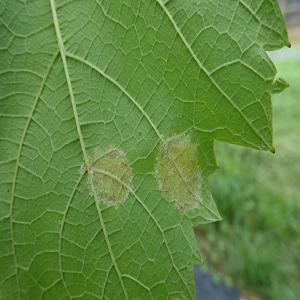Folha: (0, 0, 290, 299)
Fungo: (153, 131, 205, 215), (85, 144, 134, 210)
